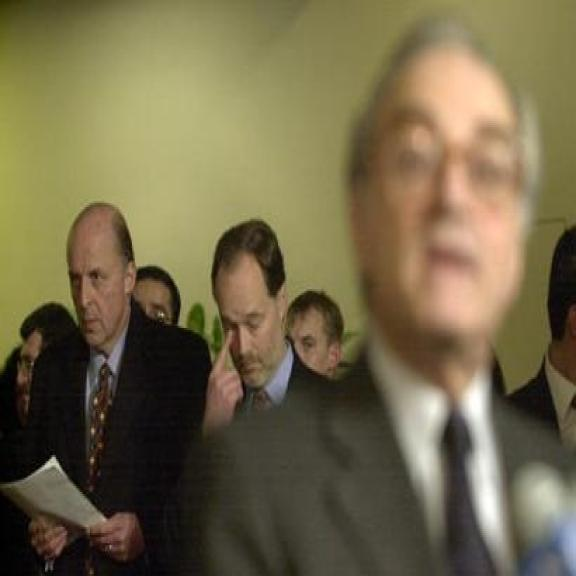face: (350, 42, 522, 360), (213, 258, 291, 391), (60, 242, 143, 351)
